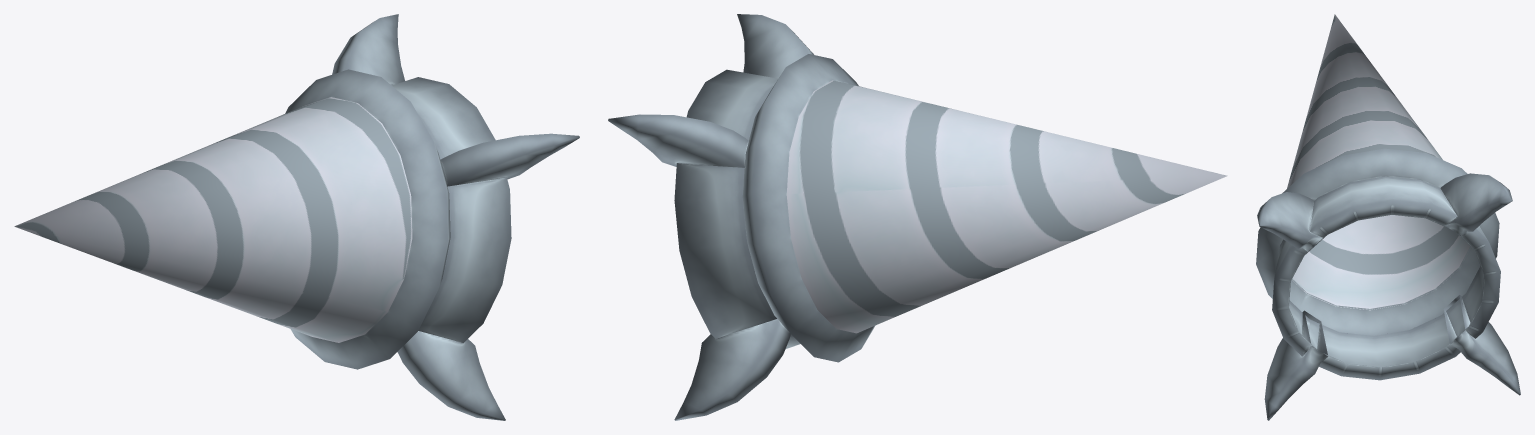
Rendered from FX_Model_303_binayuan_002.FBX.
The picture shows the model from 3 angles, left to right: view 1: azimuth 30°, elevation 25°; view 2: azimuth 150°, elevation 25°; view 3: azimuth 270°, elevation 25°; orthographic projection. The views are drawn at different scales.
Visible parts, largest first — view 1: Fish303_2; view 2: Fish303_2; view 3: Fish303_2.
Part boxes in pixels (x1,y1,x2,y2): Fish303_2: [14, 14, 579, 420]; Fish303_2: [608, 14, 1227, 420]; Fish303_2: [1256, 14, 1520, 420].
Size of the model in its own units: 49.04 by 27.51 by 26.3.
